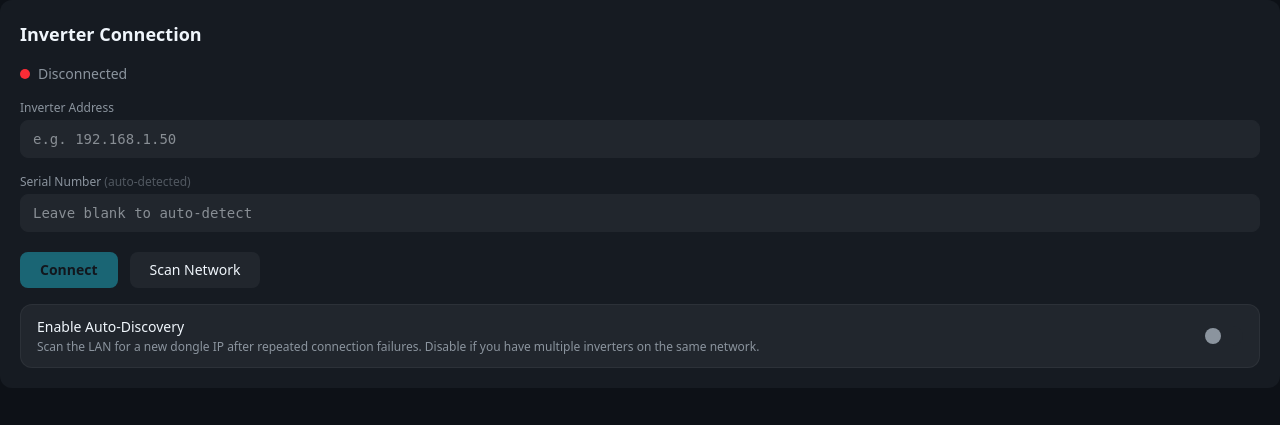
Scenario: <ConnectionSection/> — Inverter Address validation (issue #153) › clears the validation state when a bad entry is corrected
Type "not-an-ip" into the field labelled "Inverter Address".
click(640, 139); type("not-an-ip")  # box [20,120,1260,158]
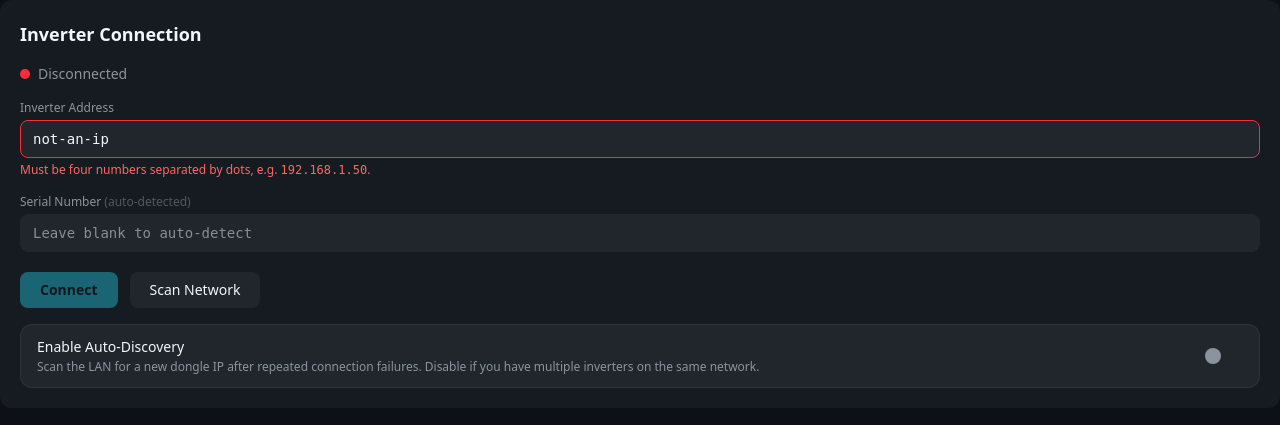
Now the text "Must be four numbers separated by dots, e.g. 192.168.1.50." is shown, box [20,161,370,178]
Replace the text in the 1st field with "10.0.0.9" at (640, 139), box [20,120,1260,158]
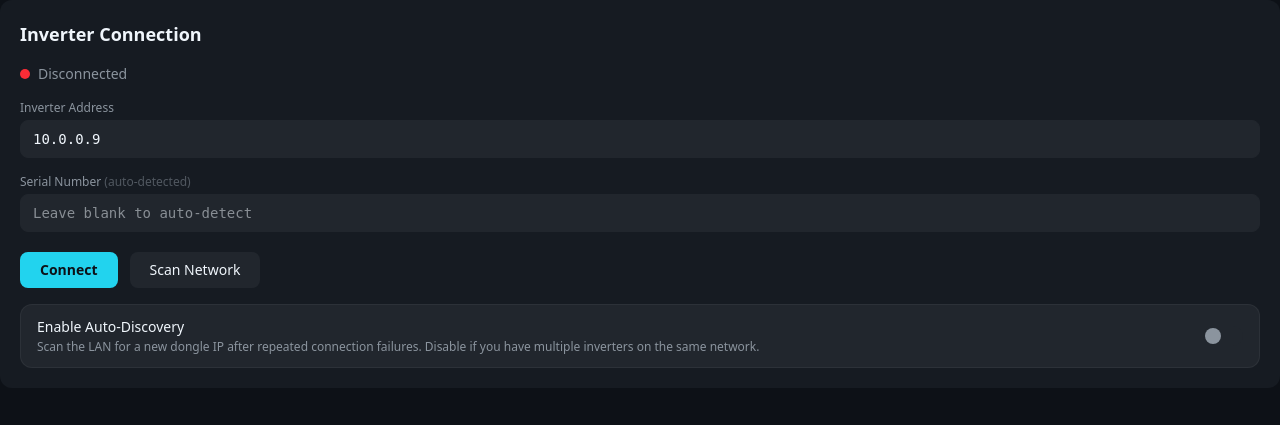
Now the text "Must be four numbers" is gone
Now the button "Connect" is enabled, box [20,252,118,288]
